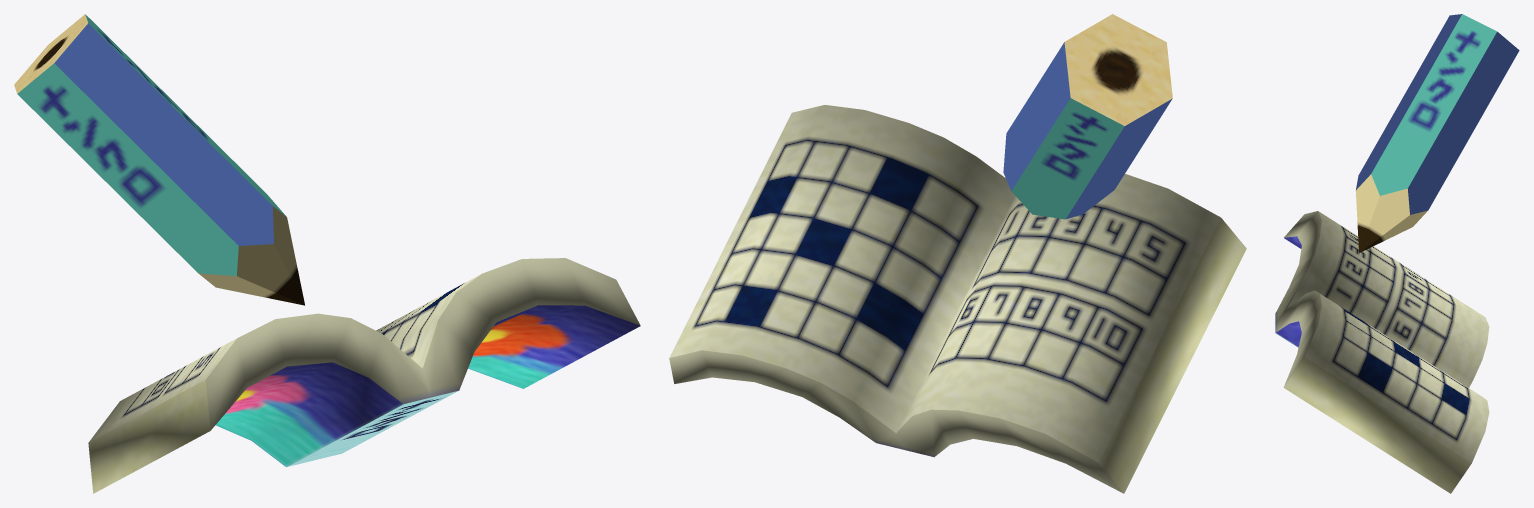
Rendered from N_ICON00.ICO.obj.
3 views of the same model, side by side, from view 1: azimuth 30°, elevation 25°; view 2: azimuth 150°, elevation 25°; view 3: azimuth 270°, elevation 25° (orthographic). The views are drawn at different scales.
Bounding box in the file's own units: 3.59 × 3.34 × 2.17.
1 material, 1 textured.
